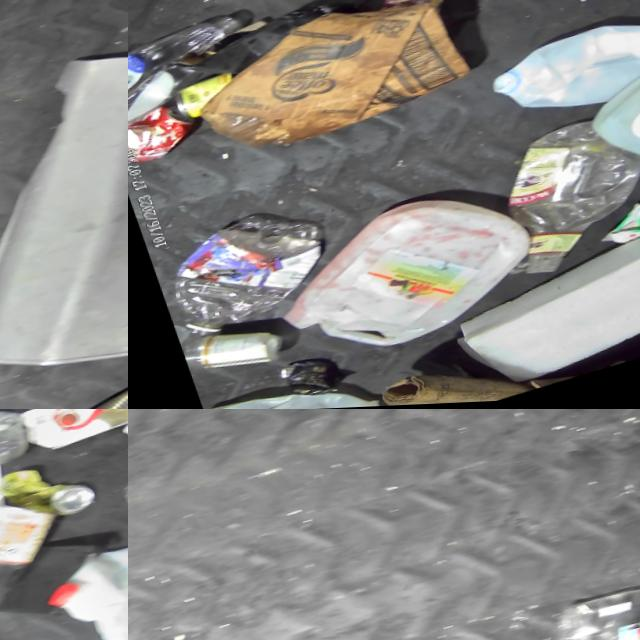can: (128, 100, 187, 170), (47, 382, 128, 409)
milk_jug: (250, 180, 528, 377), (472, 8, 640, 129), (16, 523, 128, 640), (570, 47, 640, 217), (186, 365, 360, 409), (533, 570, 640, 640)
plastic_bottle: (469, 114, 640, 289), (131, 197, 329, 347)
